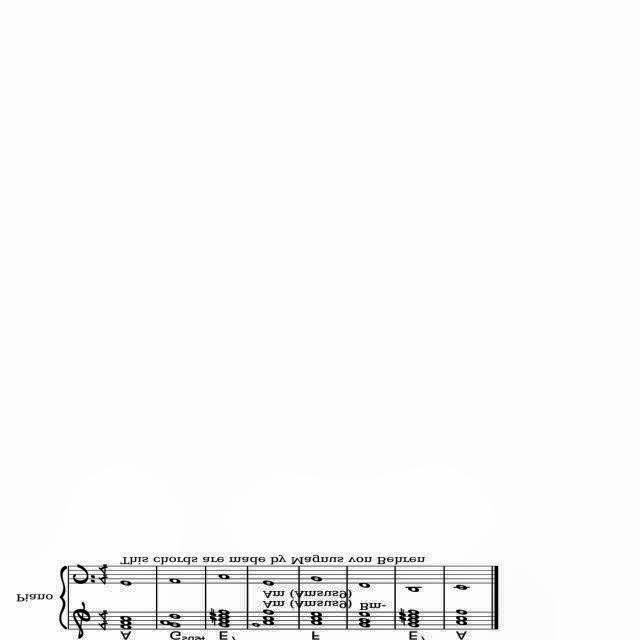Bass-clef: (72, 602, 92, 640)
Diez: (398, 608, 406, 626)
Full-note: (168, 578, 182, 584), (120, 625, 132, 631), (120, 619, 132, 625), (120, 615, 132, 621), (218, 622, 230, 628), (218, 613, 230, 619), (358, 622, 370, 628), (408, 622, 420, 628), (408, 617, 420, 623), (456, 620, 468, 626), (120, 580, 132, 586), (408, 587, 420, 593), (456, 585, 468, 591), (171, 621, 181, 627), (170, 613, 180, 619), (218, 618, 230, 622), (218, 610, 230, 614), (262, 620, 274, 624), (262, 616, 274, 620), (262, 610, 274, 614), (310, 620, 322, 624), (310, 616, 322, 620), (310, 612, 322, 616), (358, 612, 370, 616), (456, 610, 468, 614), (218, 574, 230, 578), (262, 582, 274, 586), (310, 576, 322, 580), (358, 584, 370, 588), (457, 616, 468, 620), (160, 620, 170, 624), (360, 618, 370, 622), (252, 622, 260, 626)
